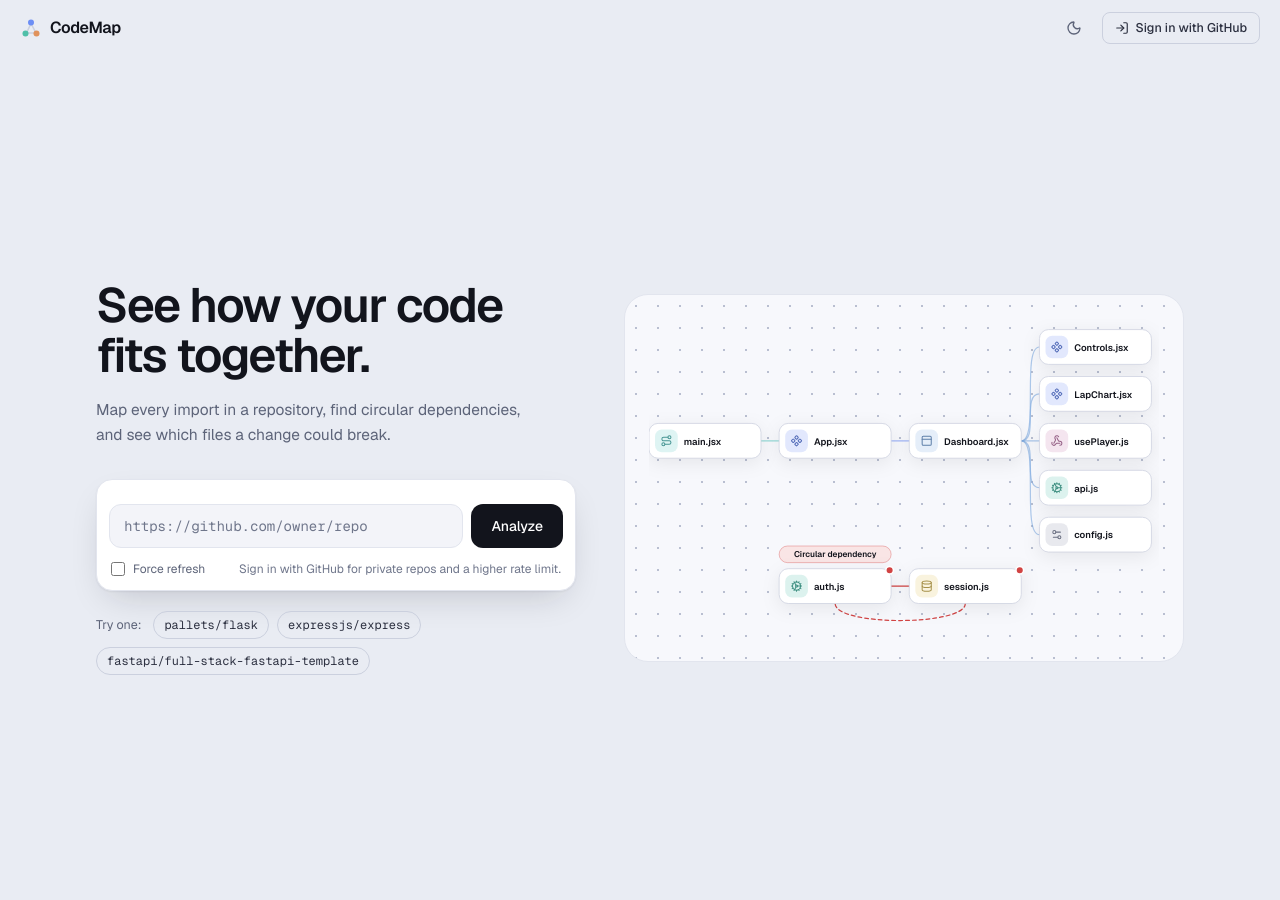
Test: HomePage: analyzing while the server wakes up › does not send the request while the server is waking, and says it is waiting
The image size is (1280, 900).
In the field named "Repository source": (286, 526) [109,504,463,548], type "https://github.com/pallets/flask"
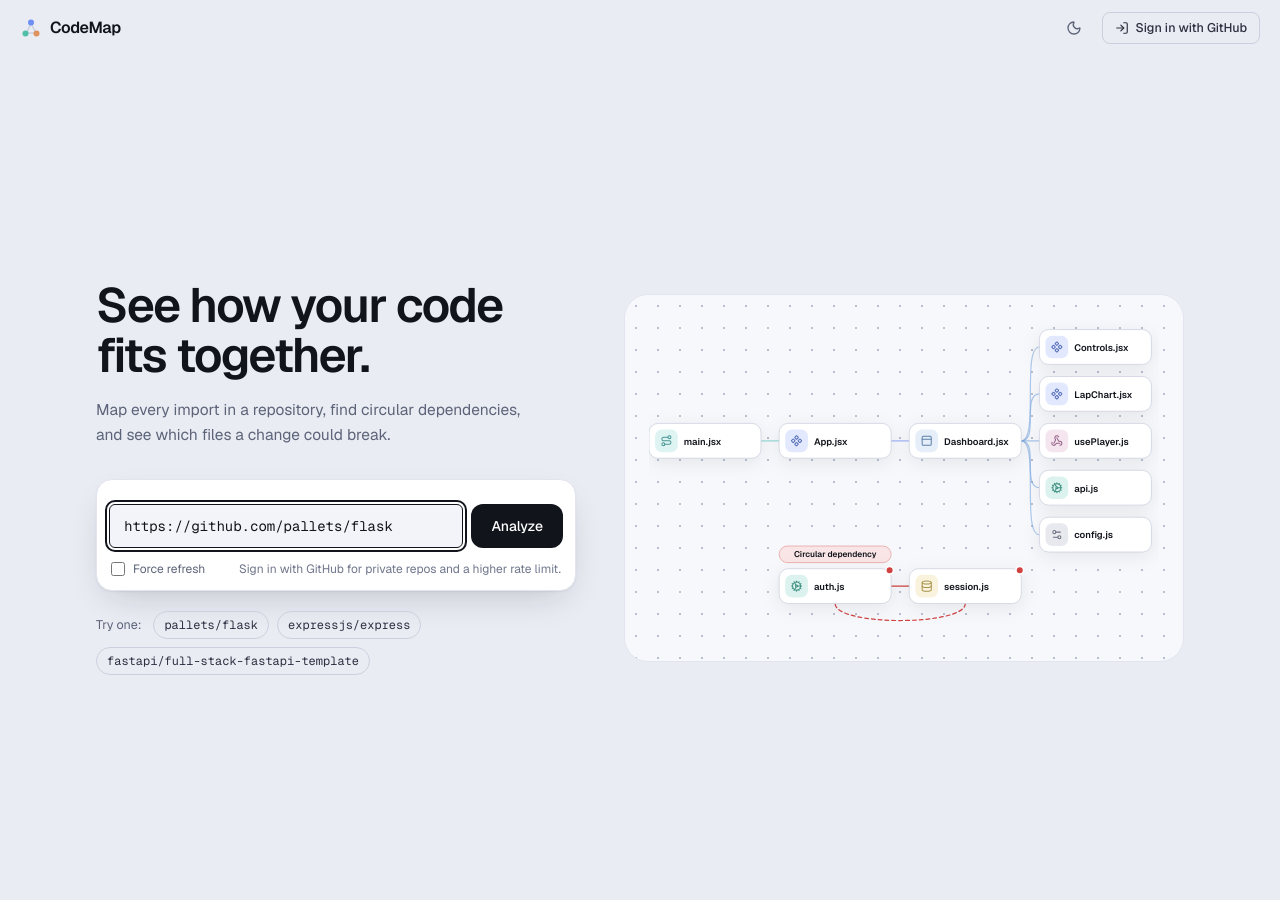
Click the button "Analyze": (517, 526) [471,504,563,548]
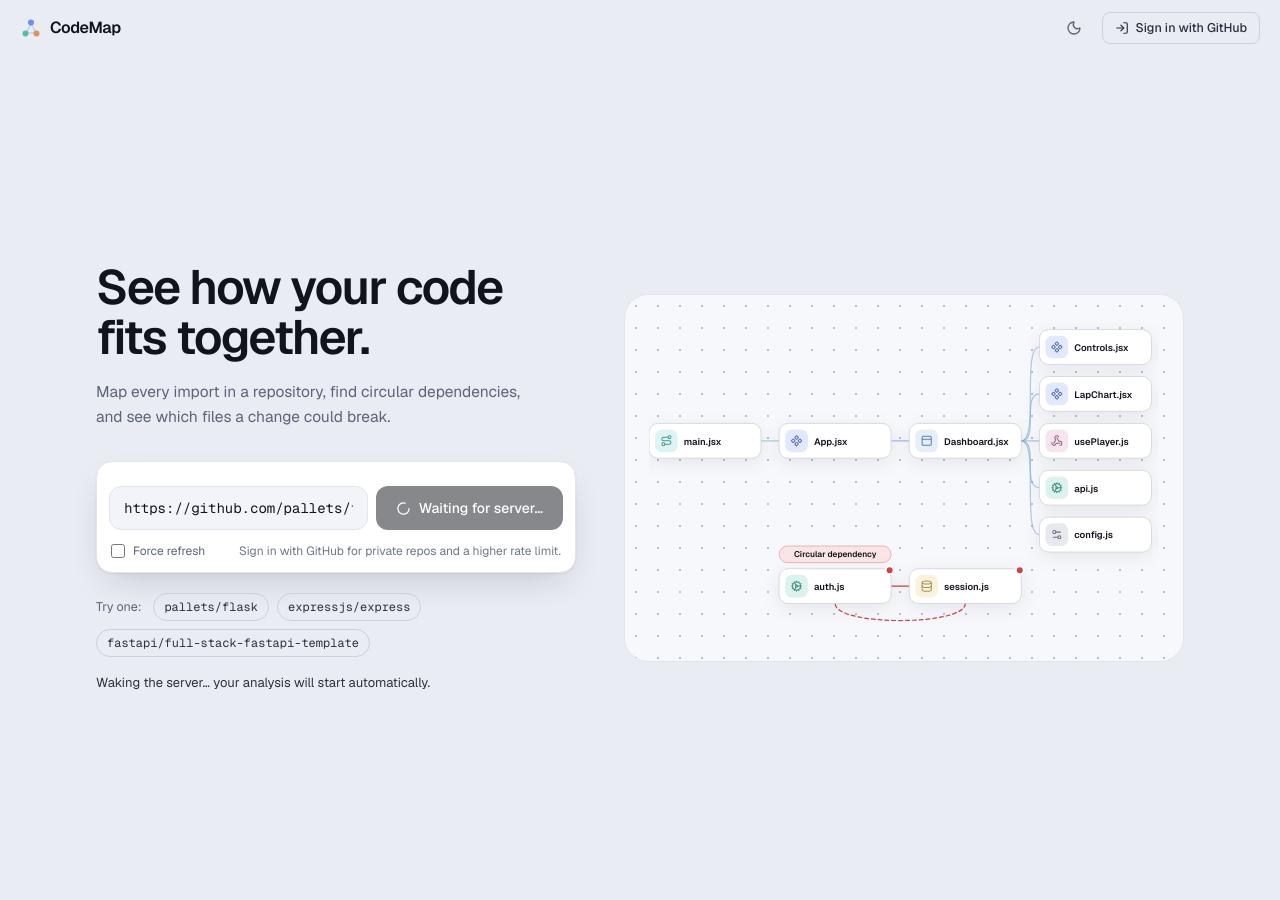
Check: the message shows "analysis will start automatically", box [96,674,430,691]
Check: the button "Waiting for server…" is disabled, box [376,486,563,530]
